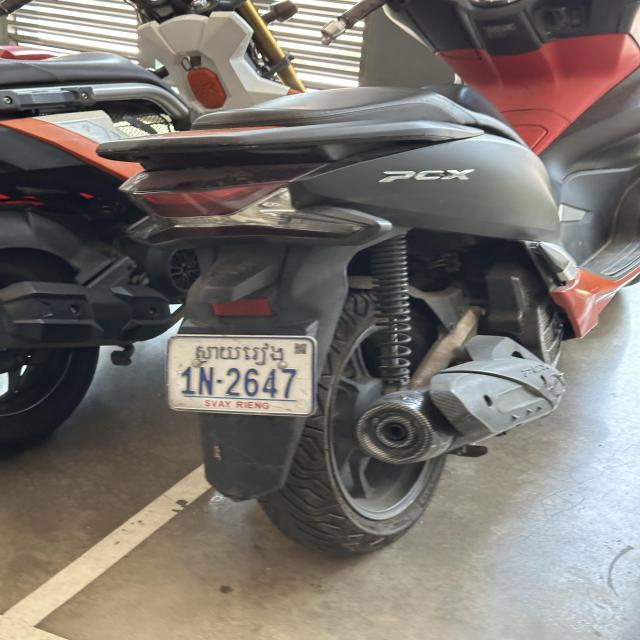Svay_Rieng: (193, 340, 288, 365)
